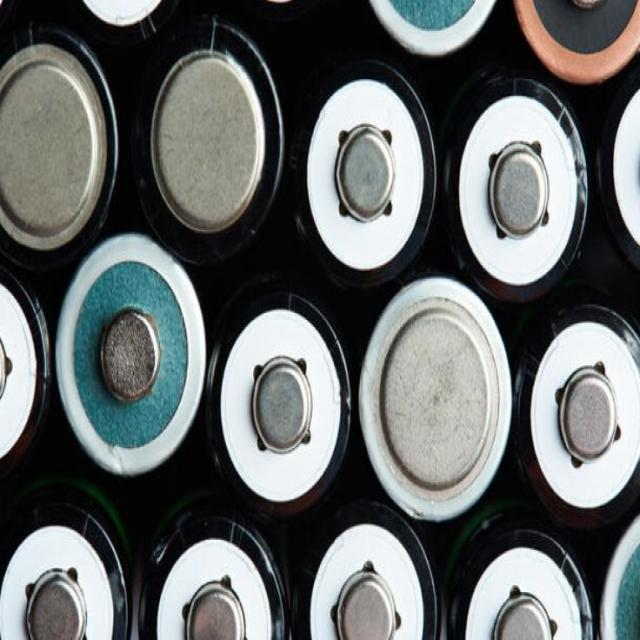electronic: (352, 269, 526, 532), (436, 50, 603, 305), (56, 237, 209, 482), (215, 269, 349, 522), (506, 279, 640, 531), (306, 51, 439, 293)
